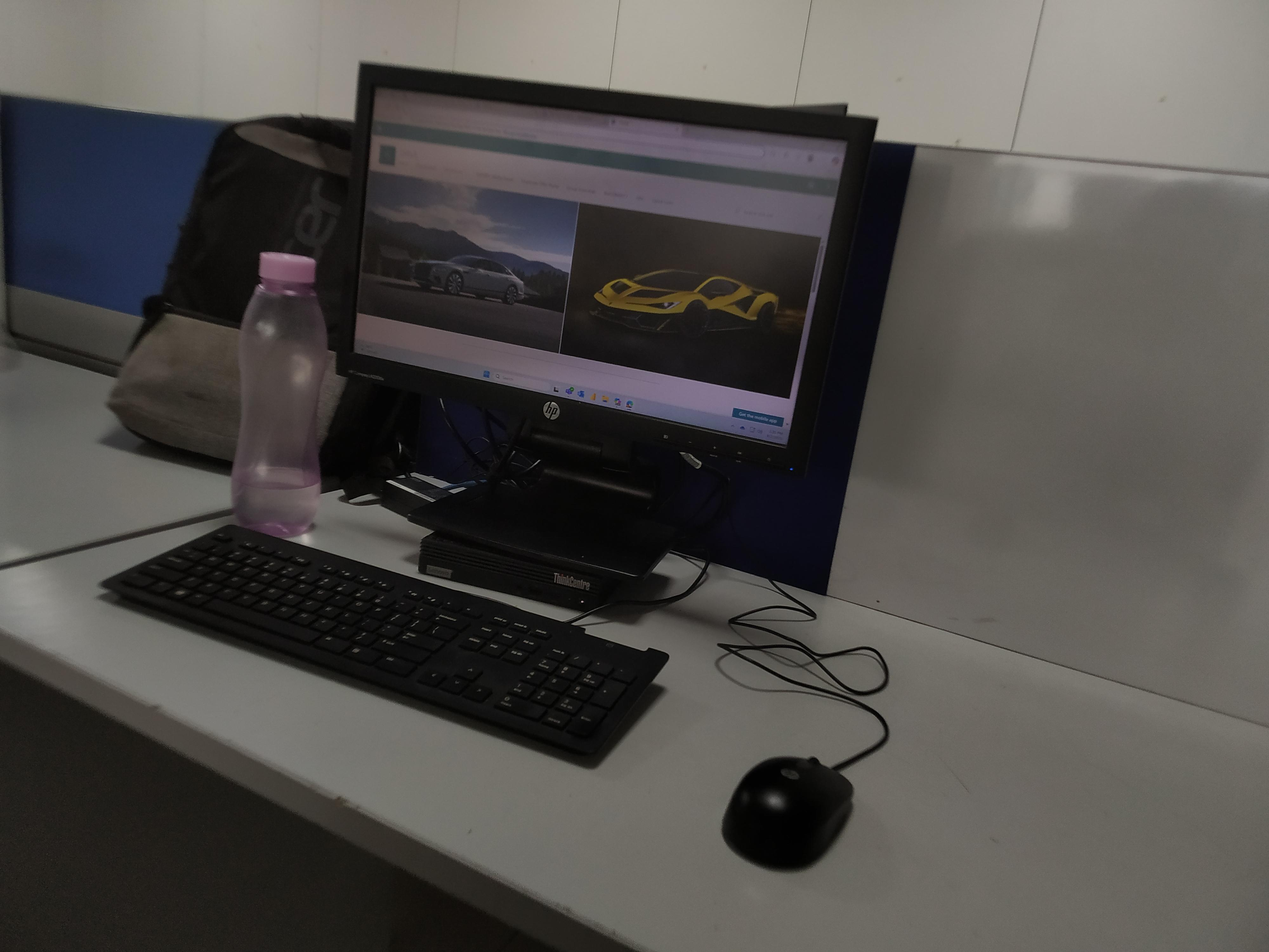bag: (98, 100, 367, 462)
bottle: (224, 249, 341, 541)
desktop: (334, 57, 896, 598)
keyboard: (79, 509, 682, 779)
mouse: (719, 744, 861, 885)
